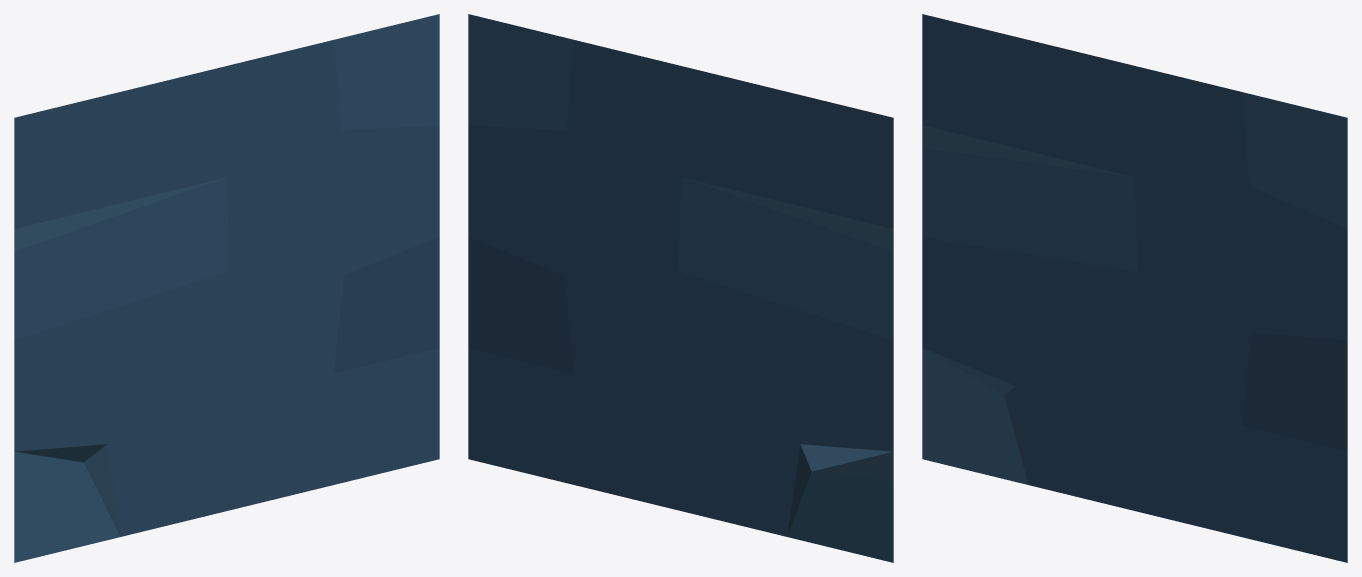
The model's file is wall_2m_back.fbx.
3 renders of one model, left to right at view 1: azimuth 30°, elevation 25°; view 2: azimuth 150°, elevation 25°; view 3: azimuth 330°, elevation 25°, orthographic.
Visible parts, largest first — view 1: wall_2m_back; view 2: wall_2m_back; view 3: wall_2m_back.
Part boxes in pixels (x1,y1,x2,y2): wall_2m_back: (14,14,439,562); wall_2m_back: (468,14,893,562); wall_2m_back: (922,14,1347,562).
Bounding box in the file's own units: 200 × 200 × 5.12.
